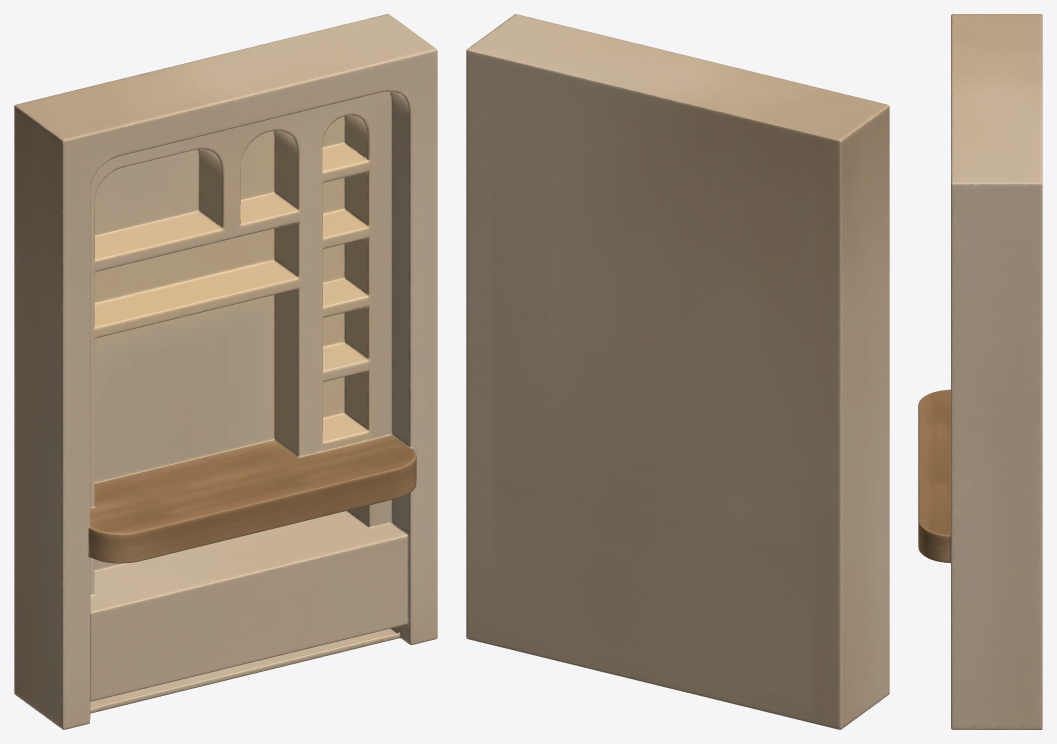
File: bookshelf.glb
The picture shows the model from 3 angles, left to right: view 1: azimuth 30°, elevation 25°; view 2: azimuth 150°, elevation 25°; view 3: azimuth 270°, elevation 25°; orthographic projection. The views are drawn at different scales.
Visible parts, largest first — view 1: world; view 2: world; view 3: world.
Part boxes in pixels (box(x1,y1,x2,y2)): world: box(14, 14, 437, 729); world: box(466, 14, 889, 729); world: box(918, 14, 1042, 729).
Size of the model in its own units: 0.6681 by 1 by 0.2068.
1 material, 1 textured.
